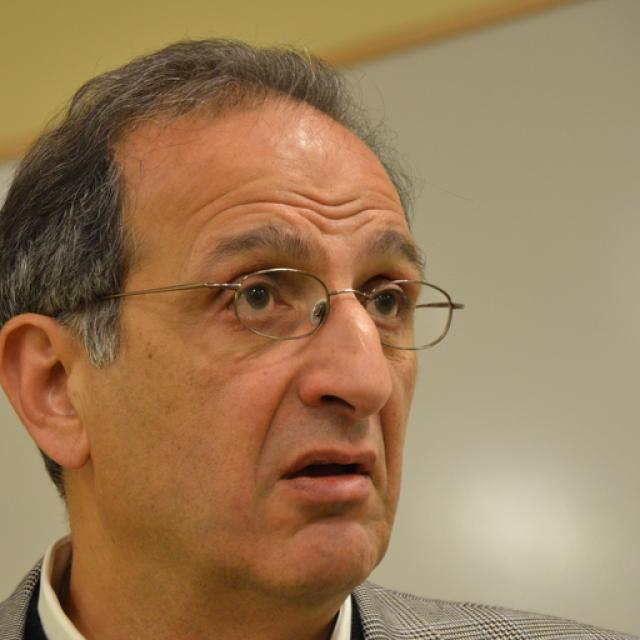fear: (101, 98, 421, 602)
